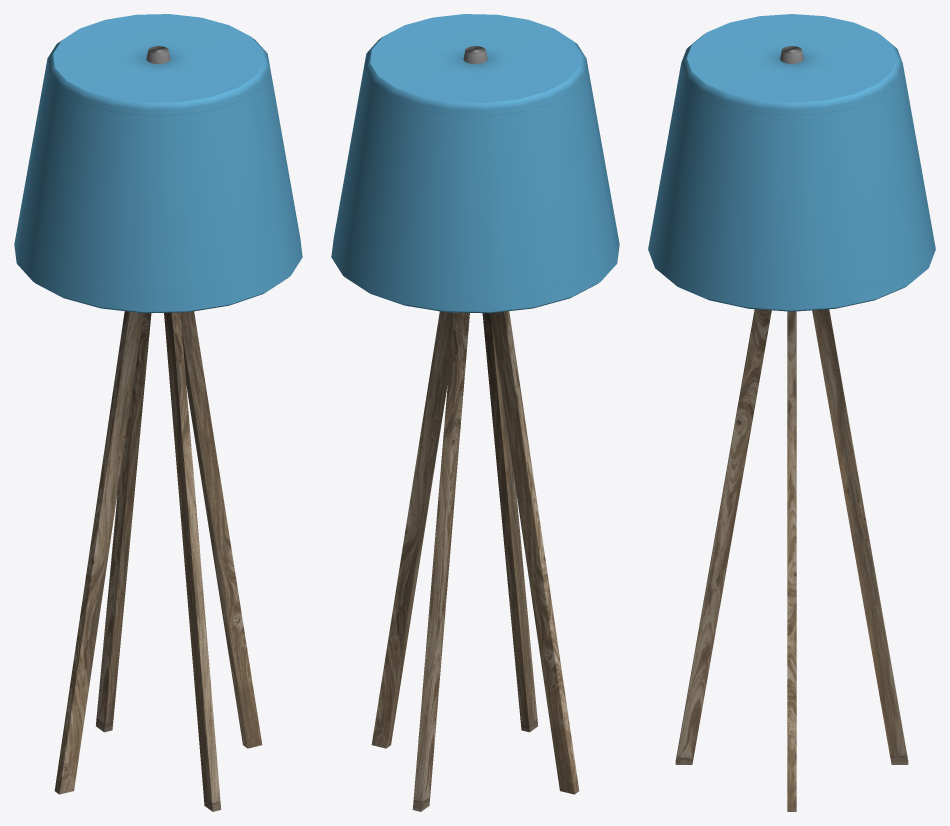
File: object_lamp.fbx
3 renders of one model, left to right at view 1: azimuth 30°, elevation 25°; view 2: azimuth 150°, elevation 25°; view 3: azimuth 270°, elevation 25°, orthographic.
Parts seen in each view (by area): view 1: lamp_head_a:polySurface9; view 2: lamp_head_a:polySurface9; view 3: lamp_head_a:polySurface9.
Part boxes in pixels (x1,y1,x2,y2): lamp_head_a:polySurface9: (14,14,302,811); lamp_head_a:polySurface9: (331,14,619,811); lamp_head_a:polySurface9: (648,14,935,811).
Bounding box in the file's own units: 1.08 × 2.94 × 1.08.
1 material, 1 textured.
